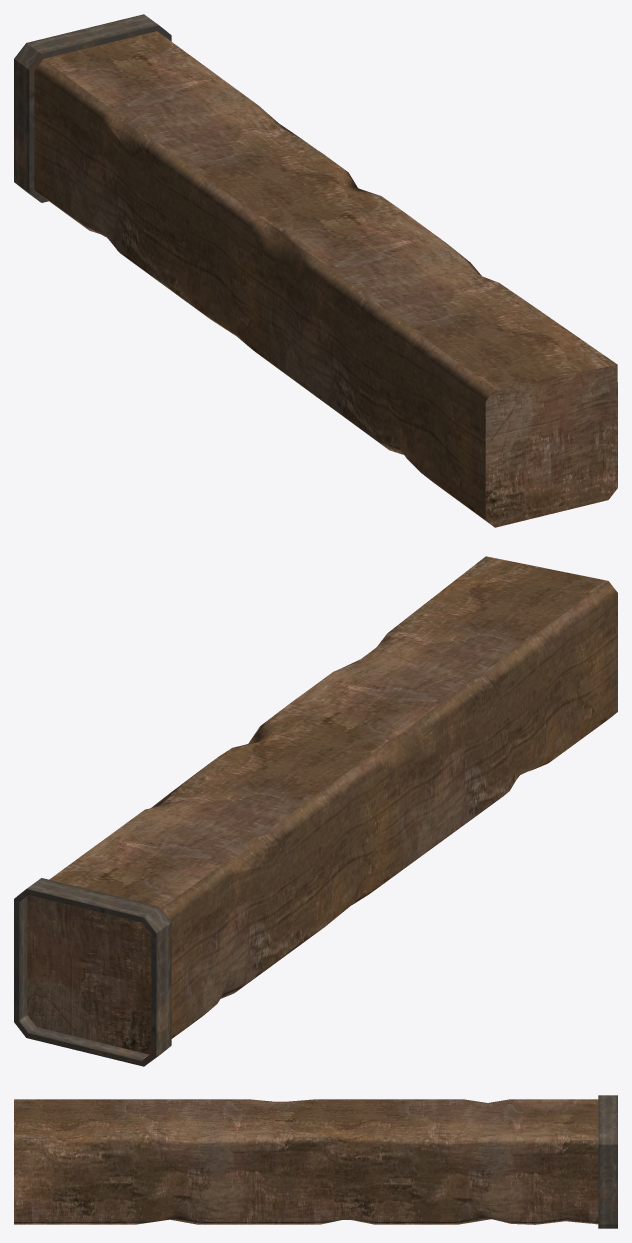
3 renders of one model, top to bottom at view 1: azimuth 30°, elevation 25°; view 2: azimuth 150°, elevation 25°; view 3: azimuth 270°, elevation 25°, orthographic. The views are drawn at different scales.
Parts seen in each view (by area): view 1: SM_WoodSupport_6M_LOD0; view 2: SM_WoodSupport_6M_LOD0; view 3: SM_WoodSupport_6M_LOD0.
Part boxes in pixels (x1,y1,x2,y2): SM_WoodSupport_6M_LOD0: (14,14,617,527); SM_WoodSupport_6M_LOD0: (14,556,617,1066); SM_WoodSupport_6M_LOD0: (14,1095,617,1228).
Size of the model in its own units: 1.08 by 1.08 by 6.11.
2 materials, 2 textured.
